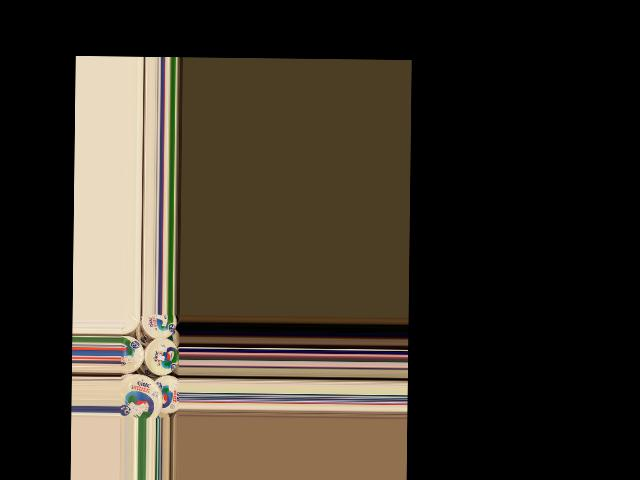cotage: (154, 372, 178, 413)
